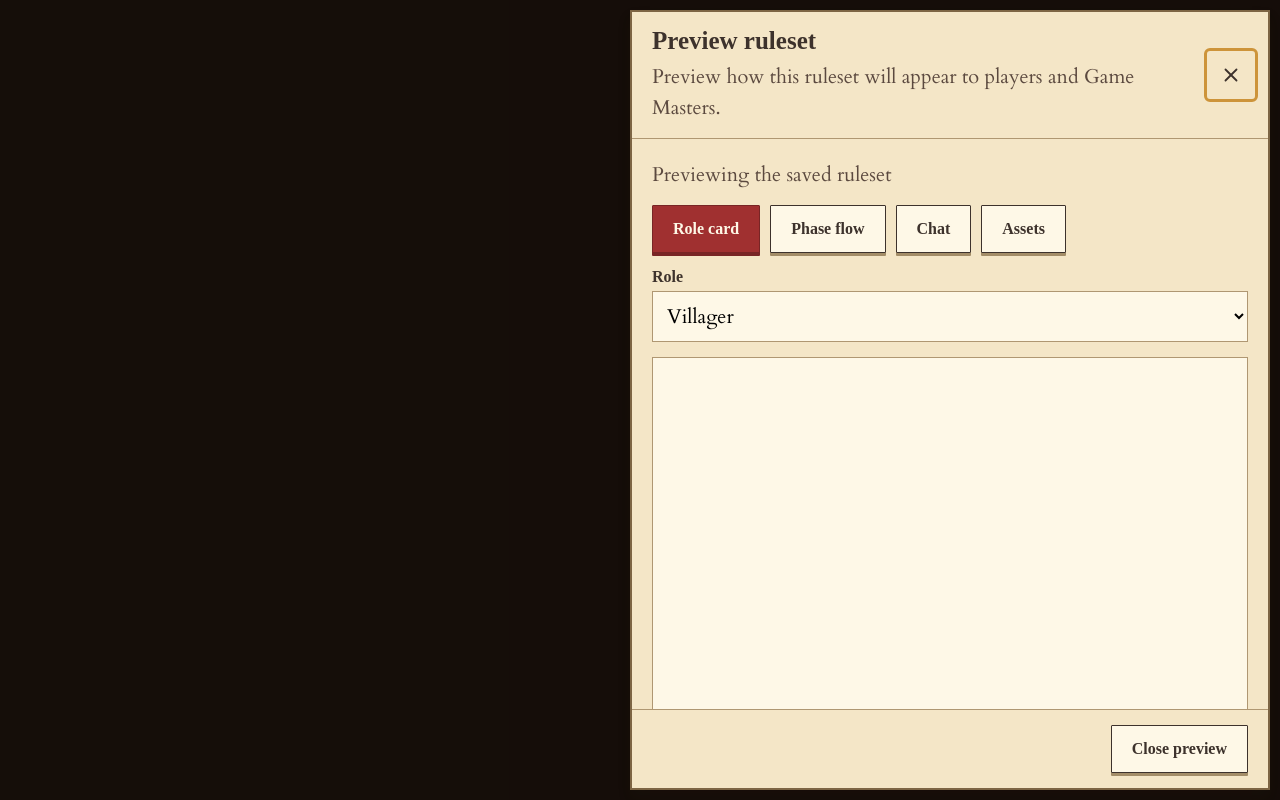
Scenario: RulesetPreview › renders selected media in each consuming game context
Click the button "Assets" at (1024, 229), box top-left (981, 205), bottom-right (1066, 253)
(page scrolled)
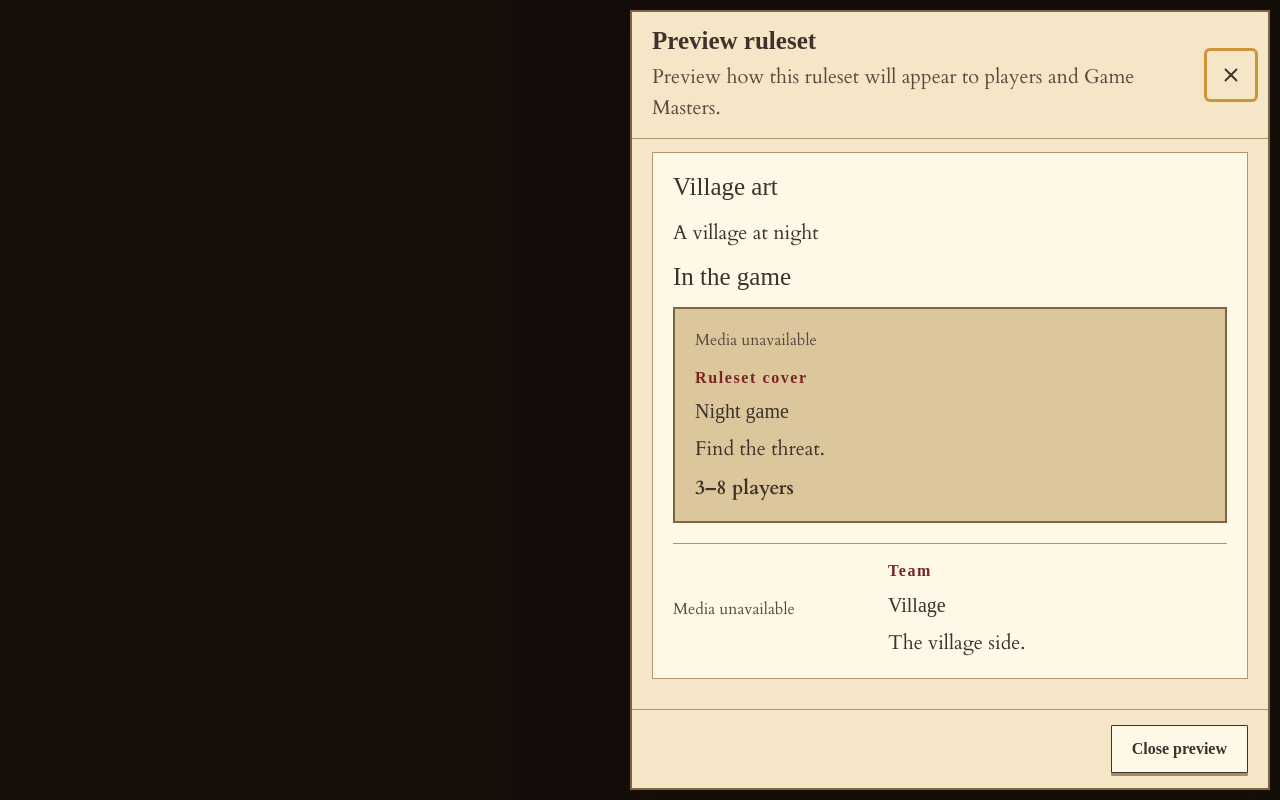
Expected: the heading "Night game" is shown, top-left (695, 400), bottom-right (789, 422)
Expected: the heading "Village" is shown, top-left (888, 594), bottom-right (946, 616)
Expected: the text "3–8 players" is shown, top-left (695, 474), bottom-right (794, 501)
